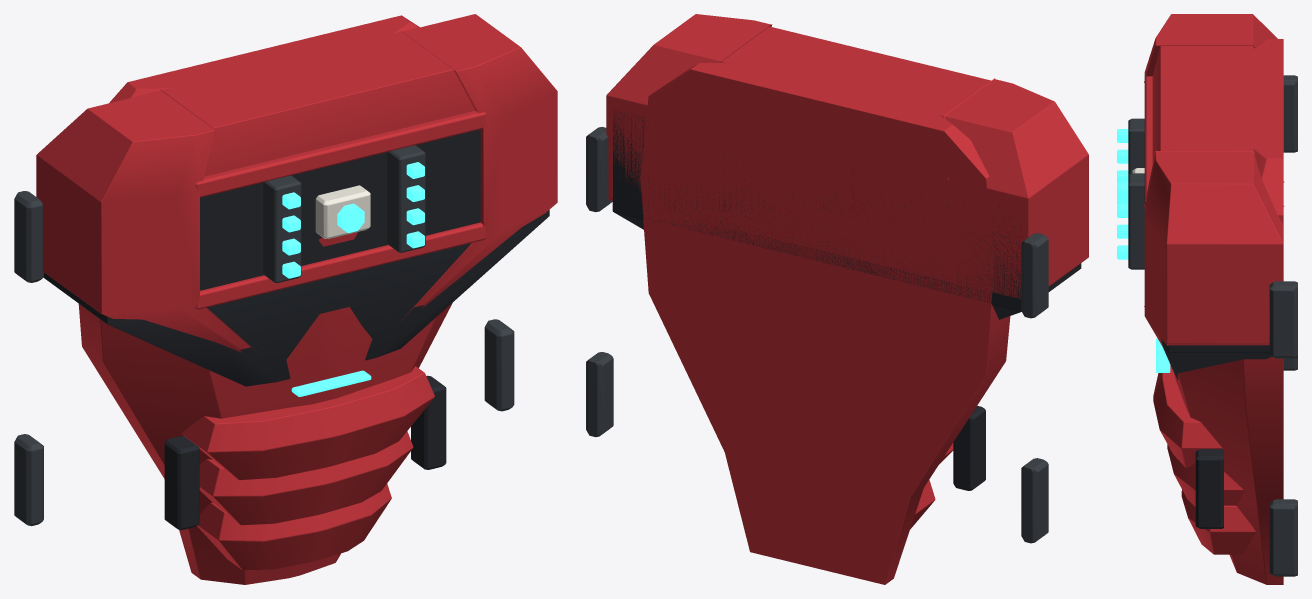
Rendered from BodyFront_Set10_Aegis.fbx.
The picture shows the model from 3 angles, left to right: view 1: azimuth 30°, elevation 25°; view 2: azimuth 150°, elevation 25°; view 3: azimuth 270°, elevation 25°; orthographic projection. The views are drawn at different scales.
Parts seen in each view (by area): view 1: BodyFront_Set10_Aegis; view 2: BodyFront_Set10_Aegis; view 3: BodyFront_Set10_Aegis.
Boxes of the visible parts, x1,y1,x2,y2 form: BodyFront_Set10_Aegis: [14, 14, 557, 584]; BodyFront_Set10_Aegis: [586, 14, 1088, 584]; BodyFront_Set10_Aegis: [1117, 14, 1297, 584].
Size of the model in its own units: 1.07 by 1.06 by 0.3822.
